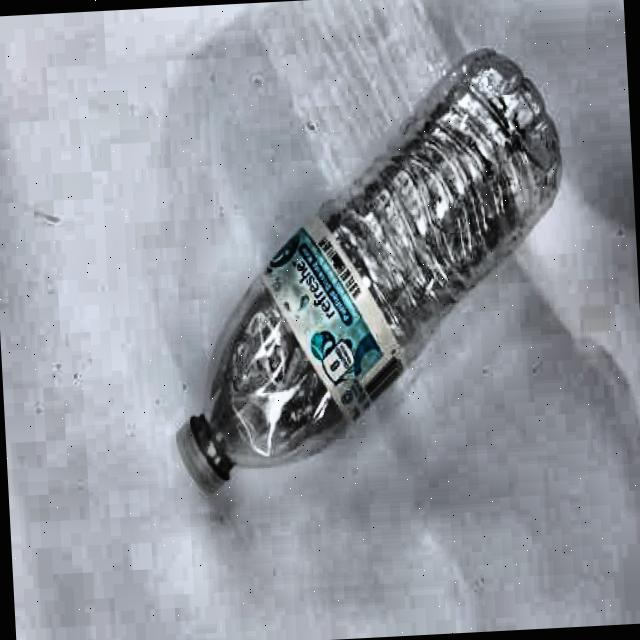plastic: (155, 41, 580, 502)
